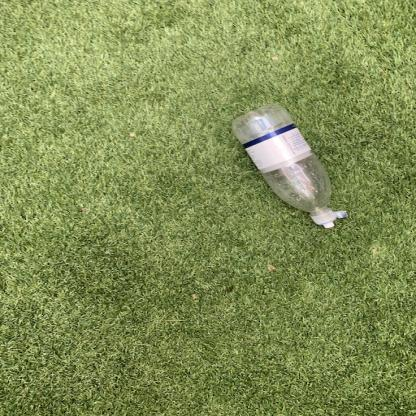trash: (233, 102, 352, 231)
